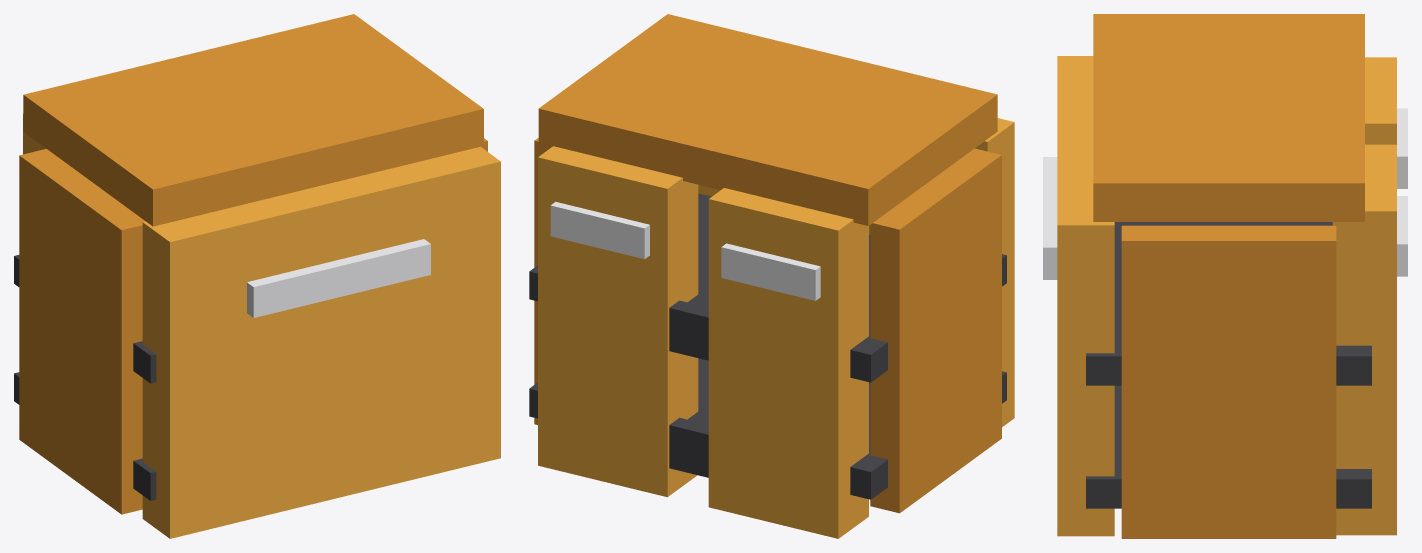
Rendered from colete_salva_vidas.glb.
3 renders of one model, left to right at view 1: azimuth 30°, elevation 25°; view 2: azimuth 150°, elevation 25°; view 3: azimuth 270°, elevation 25°, orthographic. The views are drawn at different scales.
Visible parts, largest first — view 1: colete_salva_vidas; view 2: colete_salva_vidas; view 3: colete_salva_vidas.
Part boxes in pixels (x1=…): colete_salva_vidas: x1=14, y1=14, x2=500, y2=538; colete_salva_vidas: x1=529, y1=14, x2=1014, y2=538; colete_salva_vidas: x1=1043, y1=14, x2=1407, y2=538.
Size of the model in its own units: 0.62 by 0.555 by 0.51.
